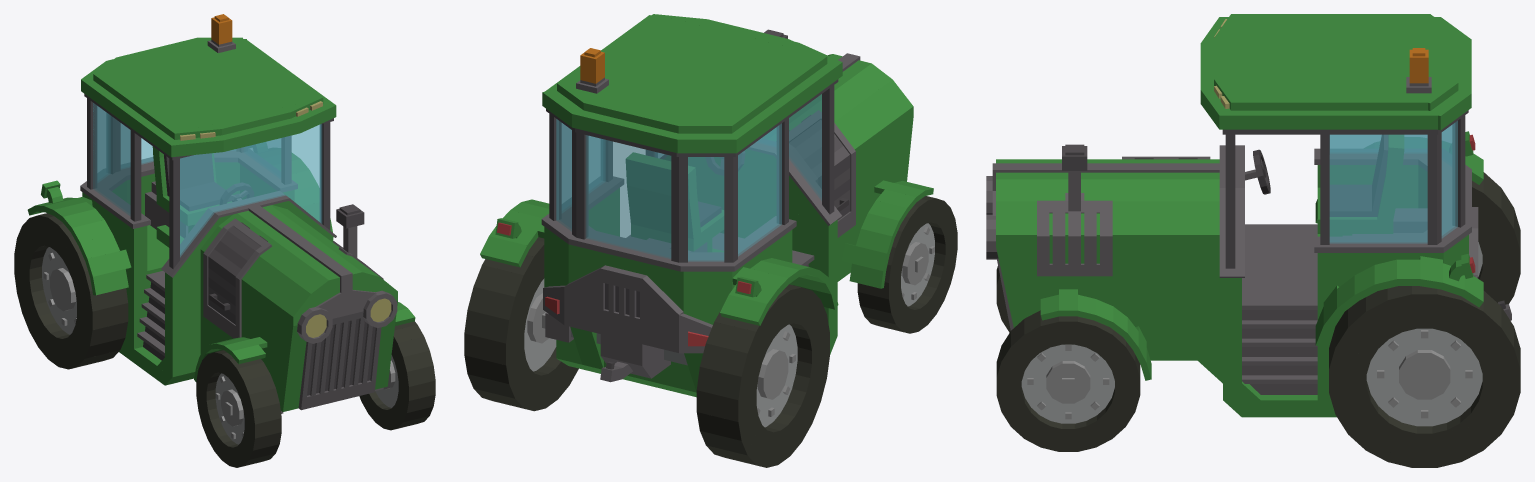
File: tractor__low_poly__farming.glb
3 renders of one model, left to right at view 1: azimuth 30°, elevation 25°; view 2: azimuth 150°, elevation 25°; view 3: azimuth 270°, elevation 25°, orthographic. The views are drawn at different scales.
Visible parts, largest first — view 1: Object_12, Object_17, Object_11, Object_8, Object_10, Object_9, Object_16, Object_14, Object_5, Object_13, Object_7; view 2: Object_12, Object_17, Object_8, Object_11, Object_10, Object_16, Object_14, Object_5, Object_9, Object_7, Object_18; view 3: Object_12, Object_17, Object_11, Object_8, Object_10, Object_16, Object_14, Object_9, Object_7.
Part boxes in pixels (box(x1,y1,x2,y2)): Object_12: box(27, 37, 415, 411); Object_17: box(14, 213, 435, 467); Object_11: box(80, 39, 397, 413); Object_8: box(93, 103, 321, 256); Object_10: box(84, 94, 375, 395); Object_9: box(164, 153, 267, 310); Object_16: box(42, 247, 398, 444); Object_14: box(43, 252, 395, 438); Object_5: box(208, 231, 254, 315); Object_13: box(306, 298, 391, 337); Object_7: box(211, 14, 232, 44); Object_12: box(480, 14, 933, 397); Object_17: box(464, 196, 957, 467); Object_8: box(556, 94, 821, 261); Object_11: box(541, 53, 860, 382); Object_10: box(546, 29, 849, 317); Object_16: box(524, 223, 934, 427); Object_14: box(527, 226, 934, 416); Object_5: box(795, 129, 849, 207); Object_9: box(698, 115, 848, 226); Object_7: box(580, 48, 604, 83); Object_18: box(497, 222, 751, 346); Object_12: box(996, 14, 1483, 417); Object_17: box(996, 172, 1520, 467); Object_11: box(986, 77, 1511, 383); Object_8: box(1329, 121, 1457, 243); Object_10: box(1062, 110, 1468, 394); Object_16: box(1021, 242, 1482, 426); Object_14: box(1027, 330, 1472, 419); Object_9: box(1134, 135, 1387, 216); Object_7: box(1409, 48, 1428, 83).
Bounding box in the file's own units: 2.09 × 2.58 × 3.32.
